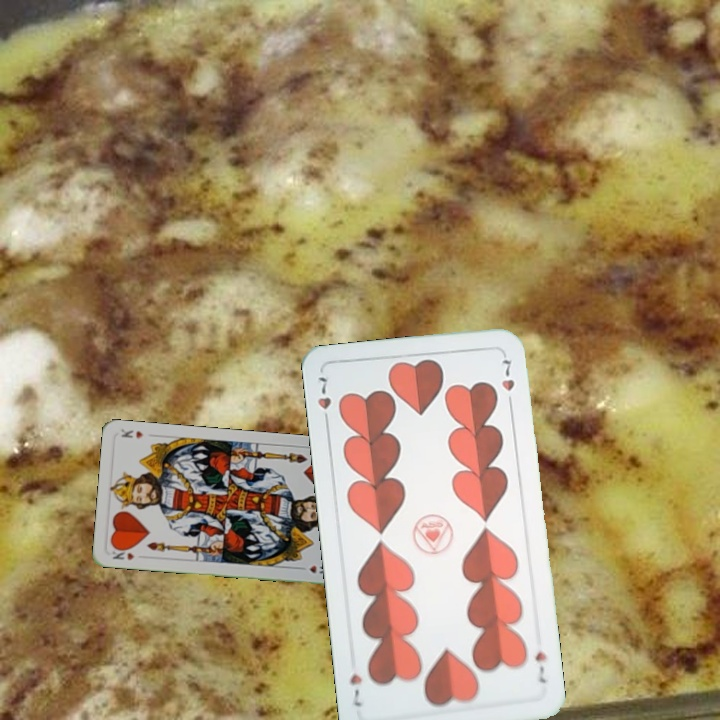H7: (314, 372, 334, 429), (531, 648, 549, 686)
HK: (107, 543, 137, 563)
